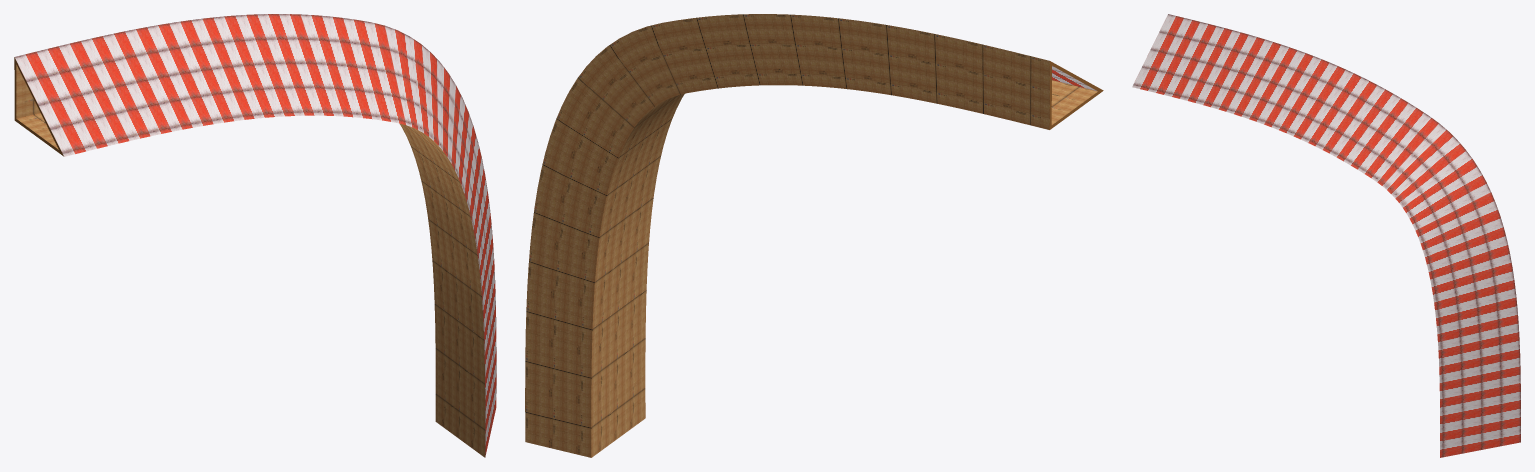
The model's file is SAMRTrack-24.fbx.
3 renders of one model, left to right at view 1: azimuth 30°, elevation 25°; view 2: azimuth 150°, elevation 25°; view 3: azimuth 330°, elevation 25°, orthographic. The views are drawn at different scales.
Visible parts, largest first — view 1: SAMRTrack-24; view 2: SAMRTrack-24; view 3: SAMRTrack-24.
Part boxes in pixels (x1,y1,x2,y2): SAMRTrack-24: (14,14,496,457); SAMRTrack-24: (525,14,1103,457); SAMRTrack-24: (1132,14,1520,457).
Bounding box in the file's own units: 206 × 191 × 36.72.
Materials: 2 (2 with a texture image).
